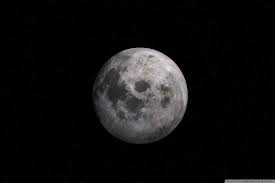moon: (91, 40, 191, 149)
